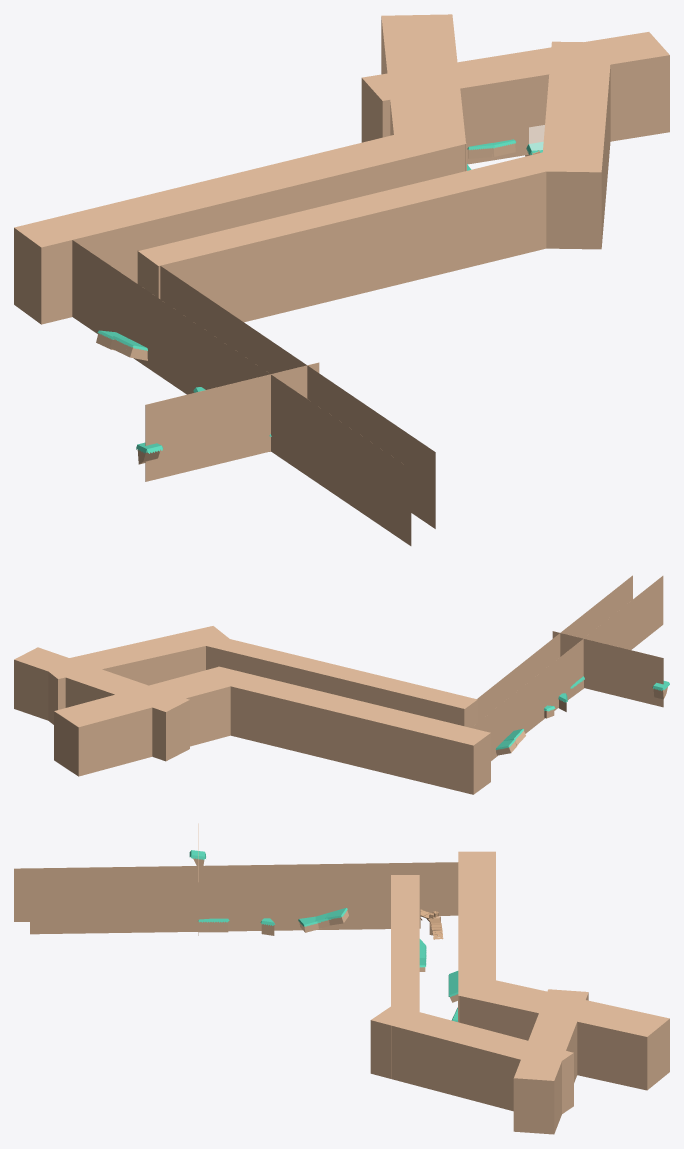
Rendered from map4.glb.
The picture shows the model from 3 angles, top to bottom: view 1: azimuth 30°, elevation 25°; view 2: azimuth 150°, elevation 25°; view 3: azimuth 270°, elevation 25°; orthographic projection. The views are drawn at different scales.
Parts seen in each view (by area): view 1: blockDirt(Clone) (×8); view 2: blockDirt(Clone) (×8); view 3: blockDirt(Clone) (×7).
Part boxes in pixels (x1,y1,x2,y2): blockDirt(Clone) (×8): (14,14,669,545); blockDirt(Clone) (×8): (14,575,663,794); blockDirt(Clone) (×7): (14,851,669,1134).
Bounding box in the file's own units: 2078 × 224 × 2221.
